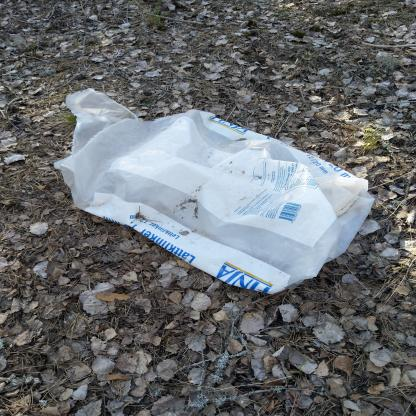trash: (47, 78, 388, 302)
